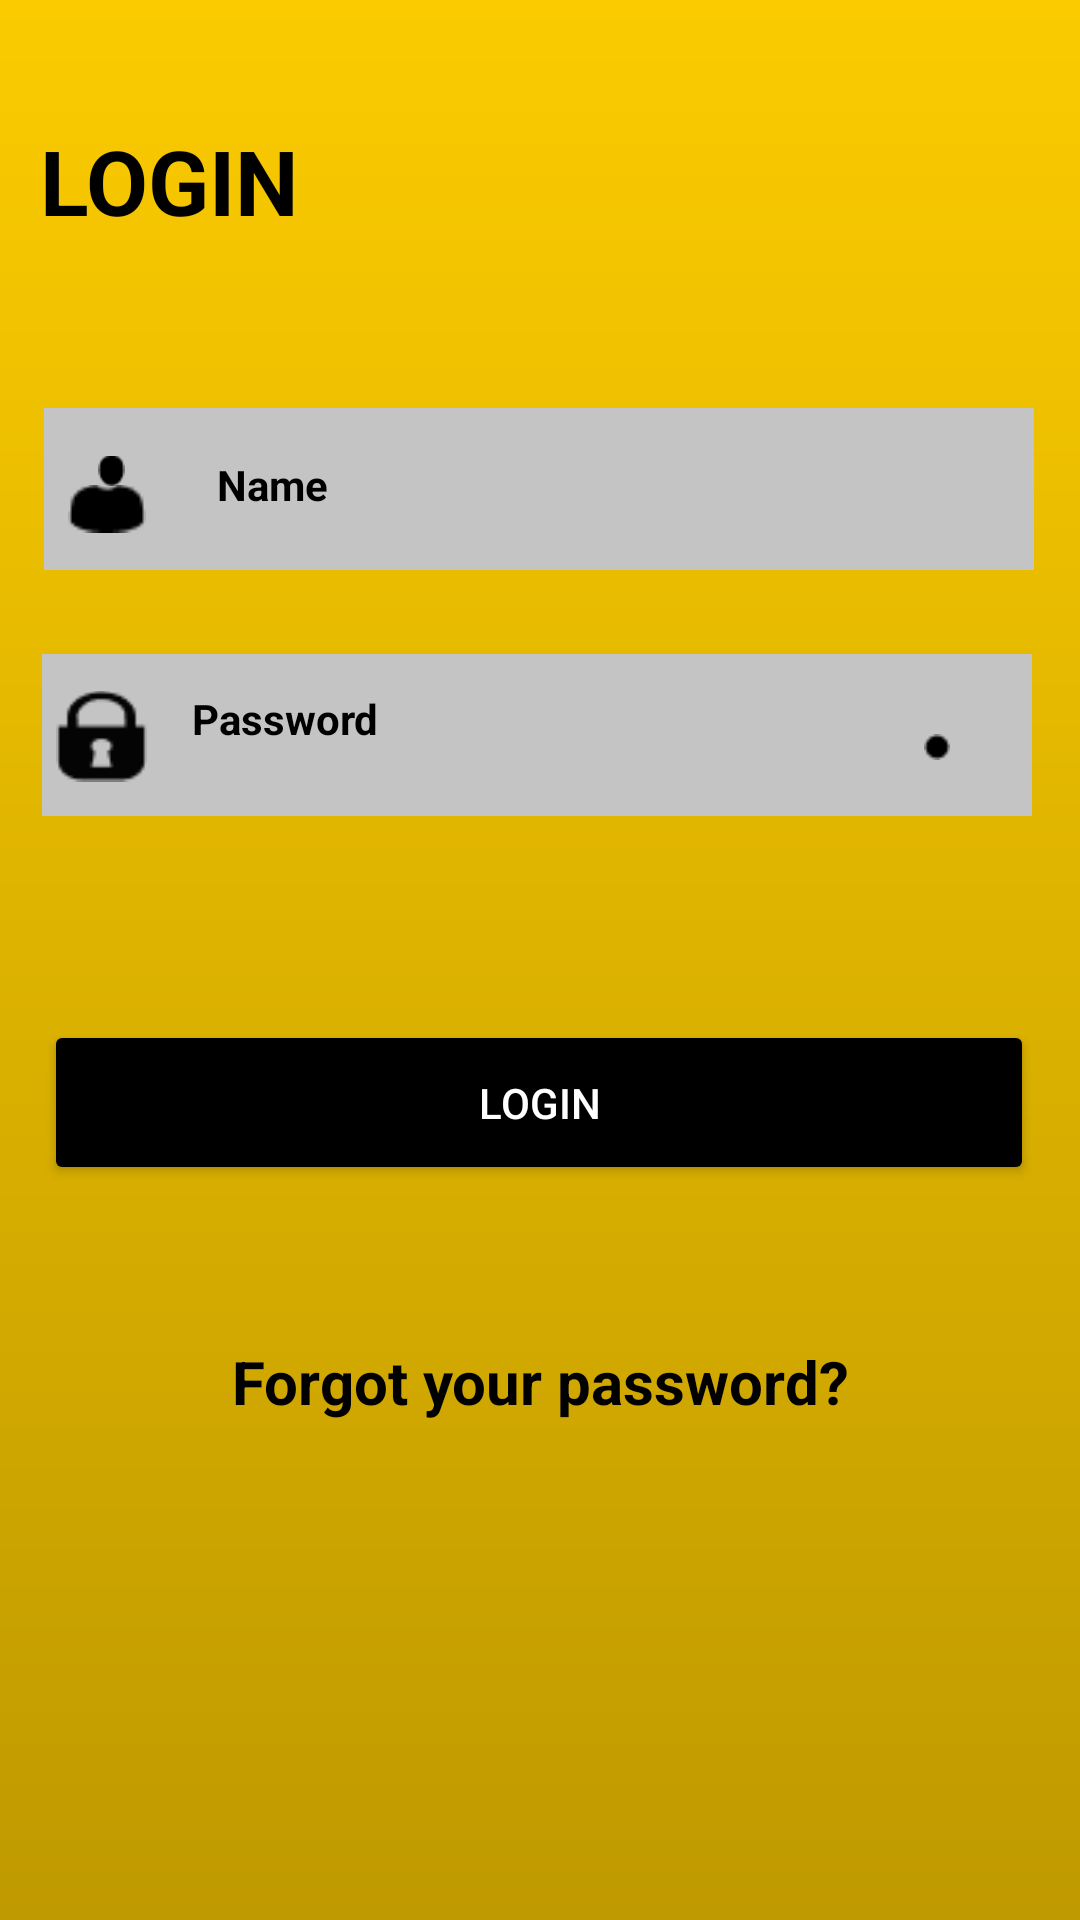

Named icons in this screenshot (1080px x 1920px) and their bounding boxes, rect(x1, y1, x2, y2):
anh passworld: rect(57, 691, 146, 782)
